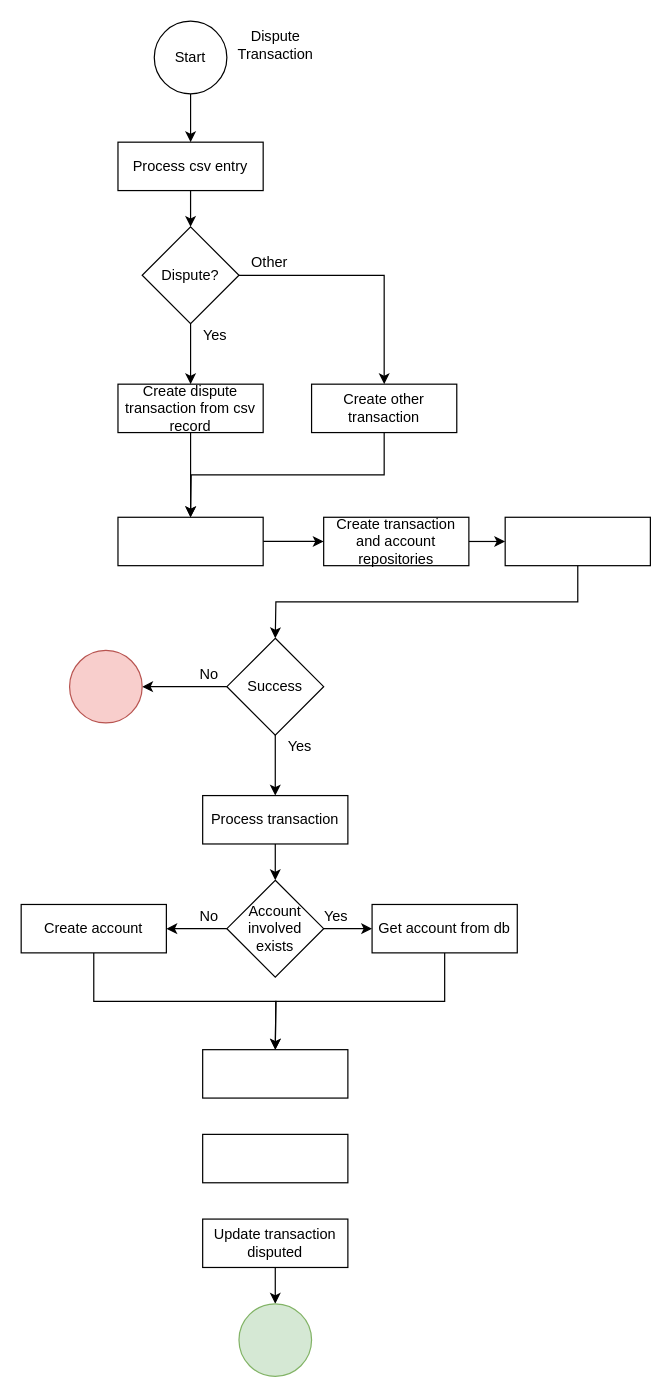
Some shapes in this 672 by 1398 pixel diagram are drawn without their labels. The centre of each missing label's shape, as x and y in pixels:
Create database access: the point at 577,541
Create transaction service: the point at 190,541
Done: the point at 275,1339
Error creating service: the point at 105,686
Process dispute: the point at 274,1073
Update account involved: the point at 274,1158
